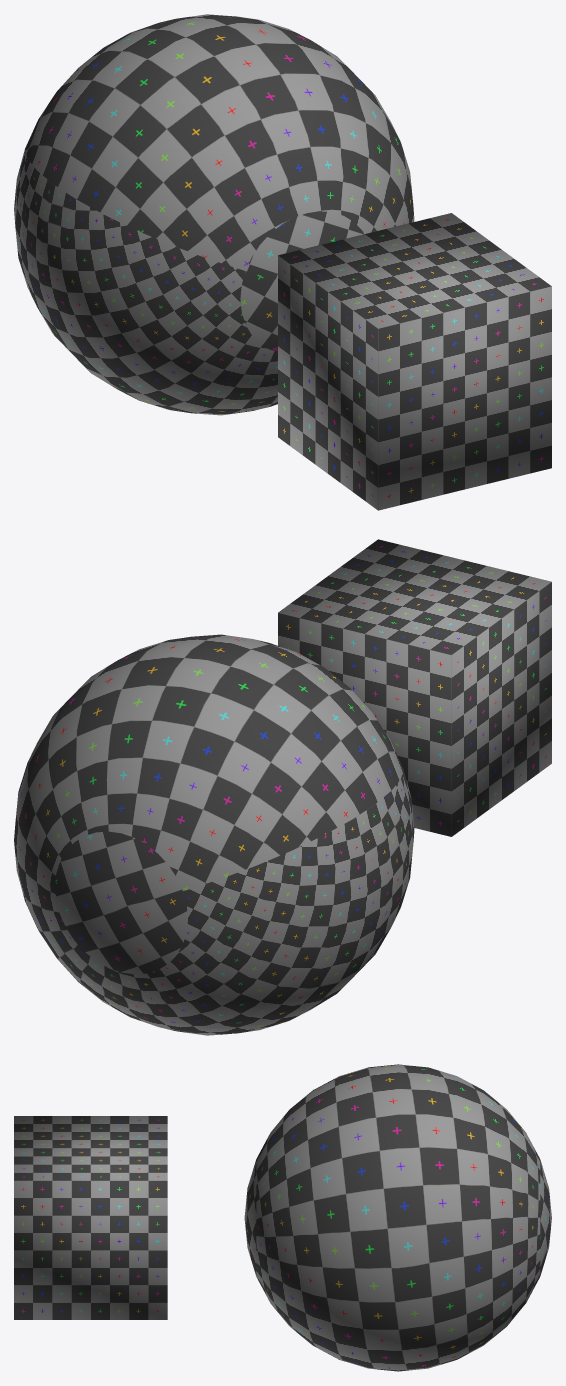
Rendered from SphereAndCube.fbx.
The picture shows the model from 3 angles, top to bottom: view 1: azimuth 30°, elevation 25°; view 2: azimuth 150°, elevation 25°; view 3: azimuth 270°, elevation 25°; orthographic projection. The views are drawn at different scales.
Parts seen in each view (by area): view 1: Sphere, Cube; view 2: Sphere, Cube; view 3: Sphere, Cube.
Part boxes in pixels (left/top/right/bottom): Sphere: left=14, top=14, right=414, bottom=415; Cube: left=278, top=213, right=551, bottom=510; Sphere: left=14, top=634, right=414, bottom=1035; Cube: left=278, top=539, right=551, bottom=836; Sphere: left=244, top=1064, right=551, bottom=1371; Cube: left=14, top=1116, right=167, bottom=1319.
Bounding box in the file's own units: 0.7874 × 0.7874 × 1.38.
Materials: 1 (1 with a texture image).
